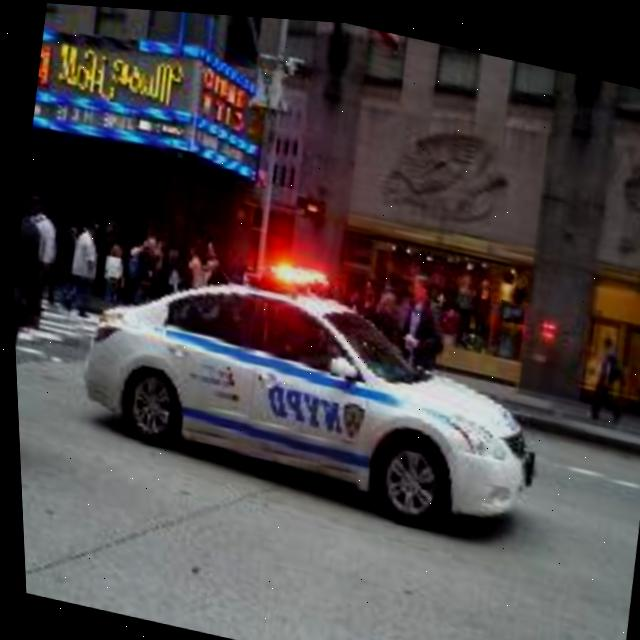emergency: (65, 223, 553, 541)
